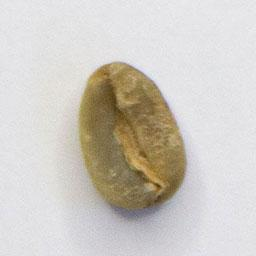premium: (74, 57, 189, 213)
